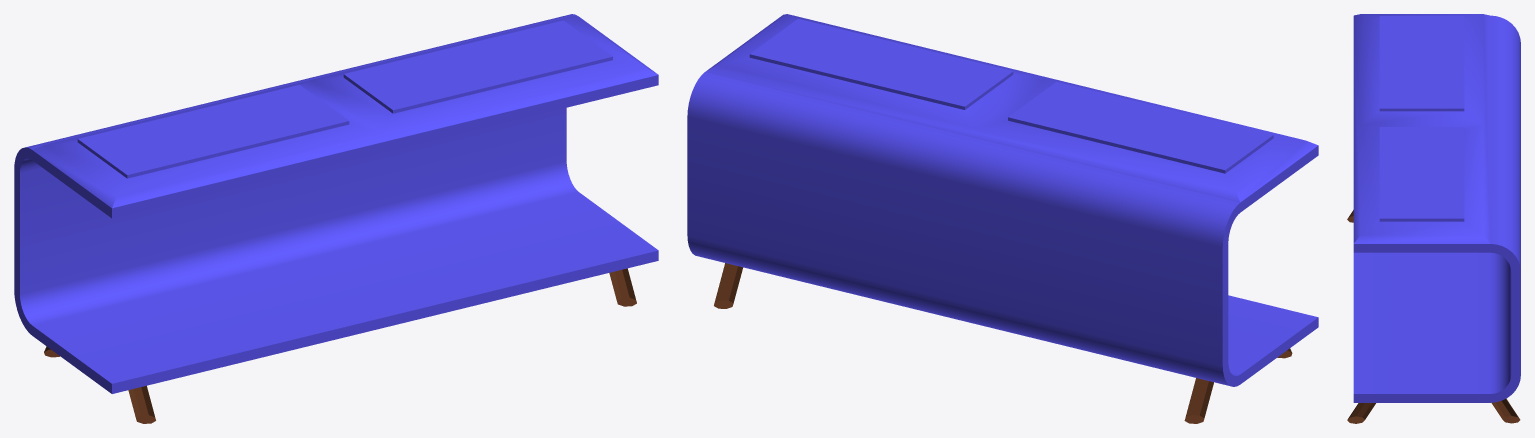
File: DefaultRoom.fbx
3 renders of one model, left to right at view 1: azimuth 30°, elevation 25°; view 2: azimuth 150°, elevation 25°; view 3: azimuth 270°, elevation 25°, orthographic. The views are drawn at different scales.
Parts seen in each view (by area): view 1: Ground.003; view 2: Ground.003; view 3: Ground.003.
Part boxes in pixels (<box>): Ground.003: <box>14,14,658,423</box>; Ground.003: <box>687,14,1318,423</box>; Ground.003: <box>1347,14,1520,423</box>.
Bounding box in the file's own units: 6 × 2.47 × 1.93.
